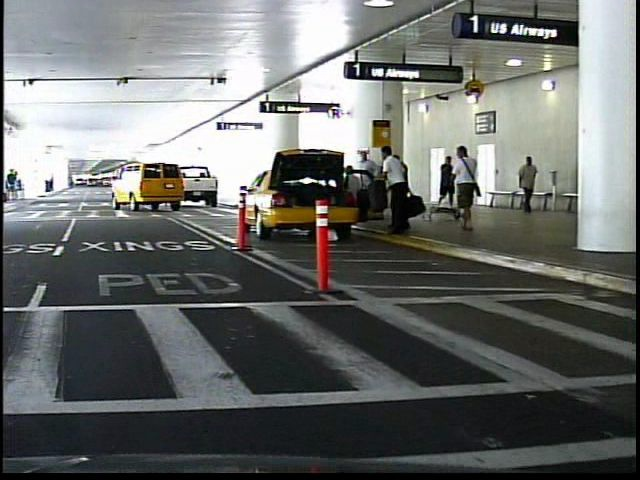person: (447, 144, 484, 234), (509, 151, 535, 213)
